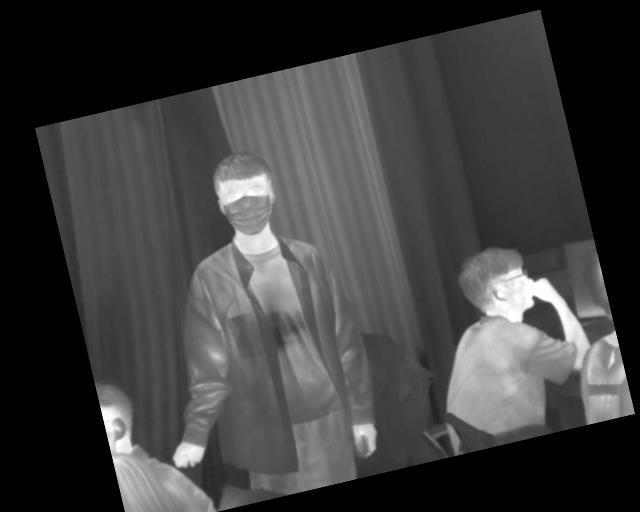face: (208, 145, 284, 243)
